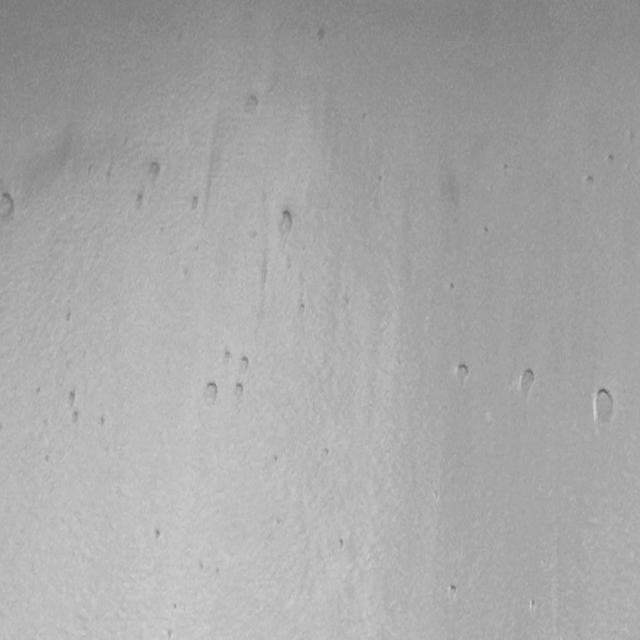pin holes: (589, 387, 617, 433), (513, 365, 538, 401), (140, 158, 166, 190), (200, 380, 223, 410), (276, 209, 296, 239), (238, 92, 261, 117), (1, 191, 18, 223), (452, 361, 472, 387), (183, 192, 203, 216), (128, 190, 144, 214), (580, 172, 596, 192), (230, 379, 245, 400), (148, 526, 164, 544), (68, 407, 82, 427), (313, 26, 328, 44), (62, 390, 76, 408), (332, 537, 346, 554), (236, 356, 249, 374), (219, 346, 232, 364), (603, 152, 616, 169), (443, 281, 456, 298), (294, 300, 306, 318), (527, 598, 540, 614), (318, 446, 332, 460), (267, 452, 281, 466), (445, 584, 457, 599), (95, 414, 106, 429)
